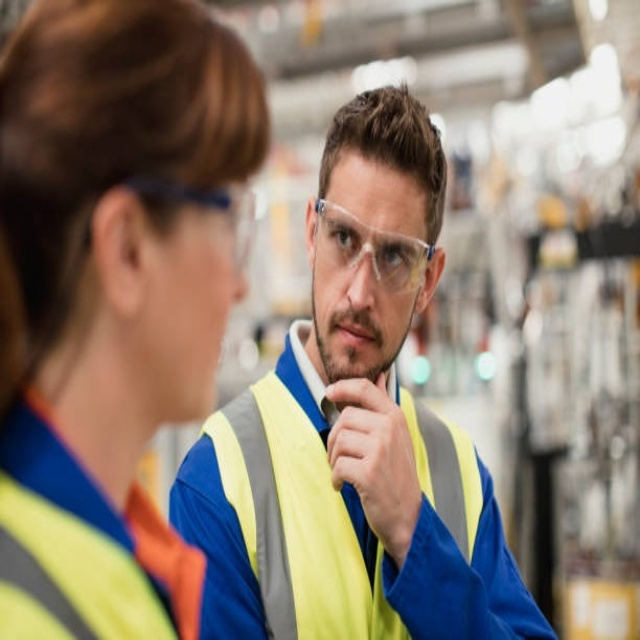Gafas: (119, 177, 260, 277), (314, 198, 434, 294)
Sin_guantes: (323, 371, 419, 551)
Sin_mascara: (324, 312, 388, 370)
